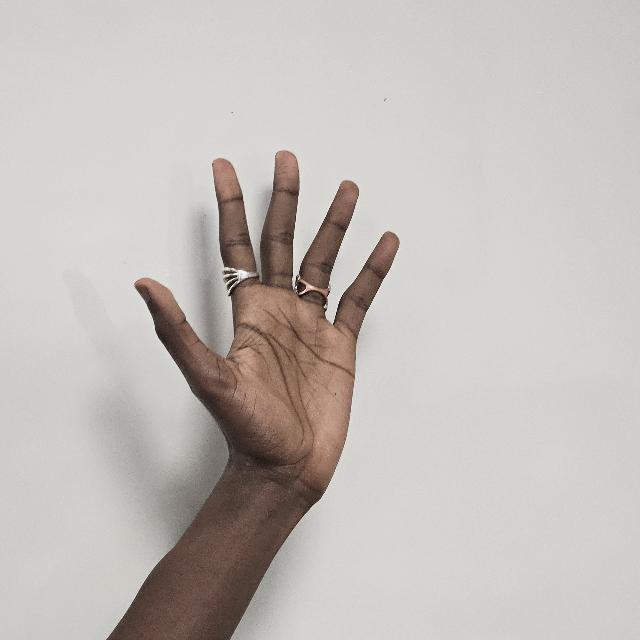X: (134, 147, 402, 521)
